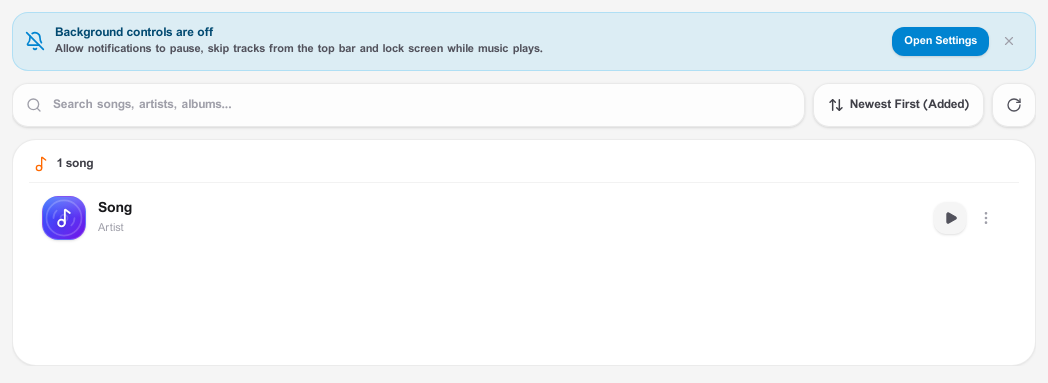
Permission warning banner › notification banner dismiss persists across remounts for the session
Expected: the text "Background controls are off" is shown, [55,23,213,42]
Click the button named "Close": (1009, 41) [995,27,1023,55]
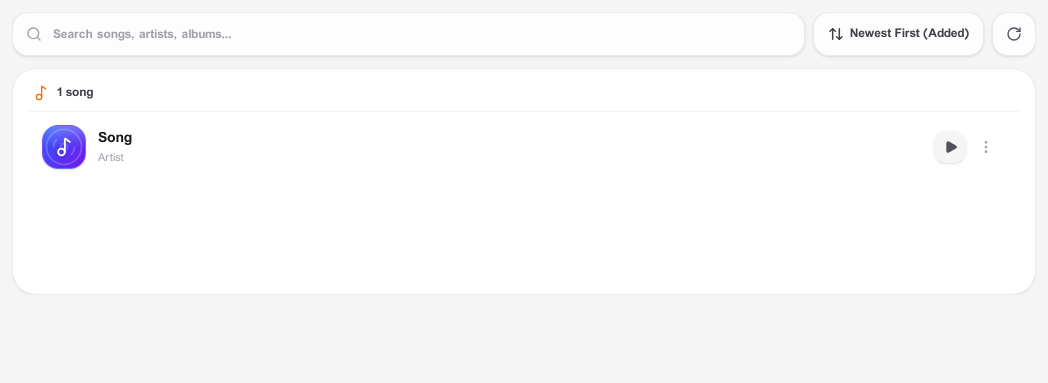
Expected: the text "Background controls are off" is gone
